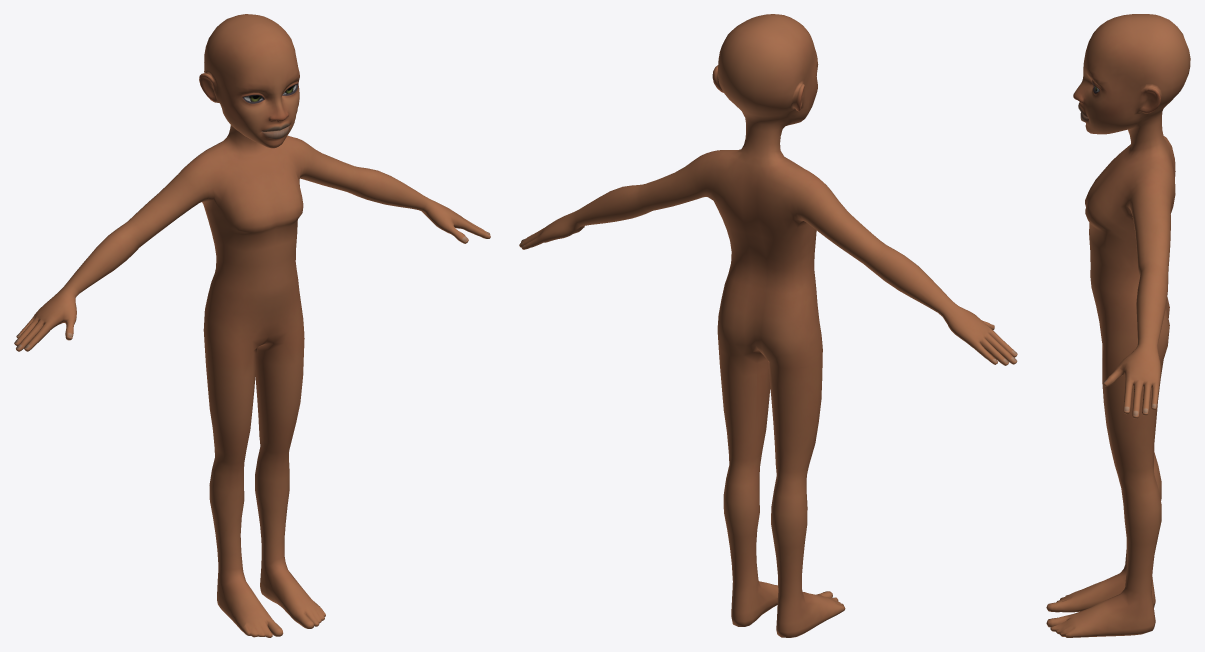
The model's file is frame_0016.glb.
3 views of the same model, side by side, from view 1: azimuth 30°, elevation 25°; view 2: azimuth 150°, elevation 25°; view 3: azimuth 270°, elevation 25° (orthographic). The views are drawn at different scales.
Parts seen in each view (by area): view 1: frame_0016_head_geo; view 2: frame_0016_head_geo; view 3: frame_0016_head_geo.
Part boxes in pixels (x1,y1,x2,y2): frame_0016_head_geo: [14, 14, 490, 637]; frame_0016_head_geo: [519, 14, 1017, 637]; frame_0016_head_geo: [1046, 14, 1190, 637].
Size of the model in its own units: 1.28 by 1.5 by 0.3253.
Materials: 3 (3 with a texture image).
